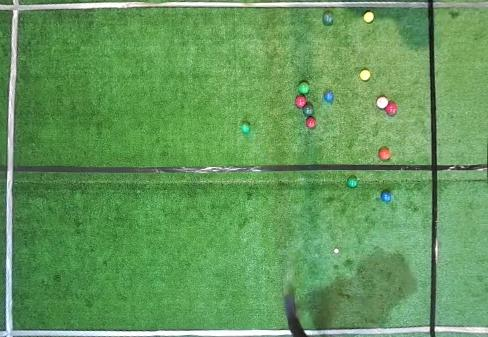blue: (380, 191, 391, 202), (324, 91, 334, 102)
green: (298, 81, 310, 95), (322, 12, 334, 25), (302, 104, 314, 116), (346, 176, 357, 187), (240, 123, 250, 133)
red: (378, 147, 391, 161), (385, 102, 398, 115), (376, 96, 388, 109), (295, 96, 306, 108), (306, 117, 316, 128)
vline: (427, 0, 487, 336), (0, 0, 21, 336)
white: (334, 248, 340, 254)
yellow: (359, 69, 371, 81), (363, 11, 375, 23)
